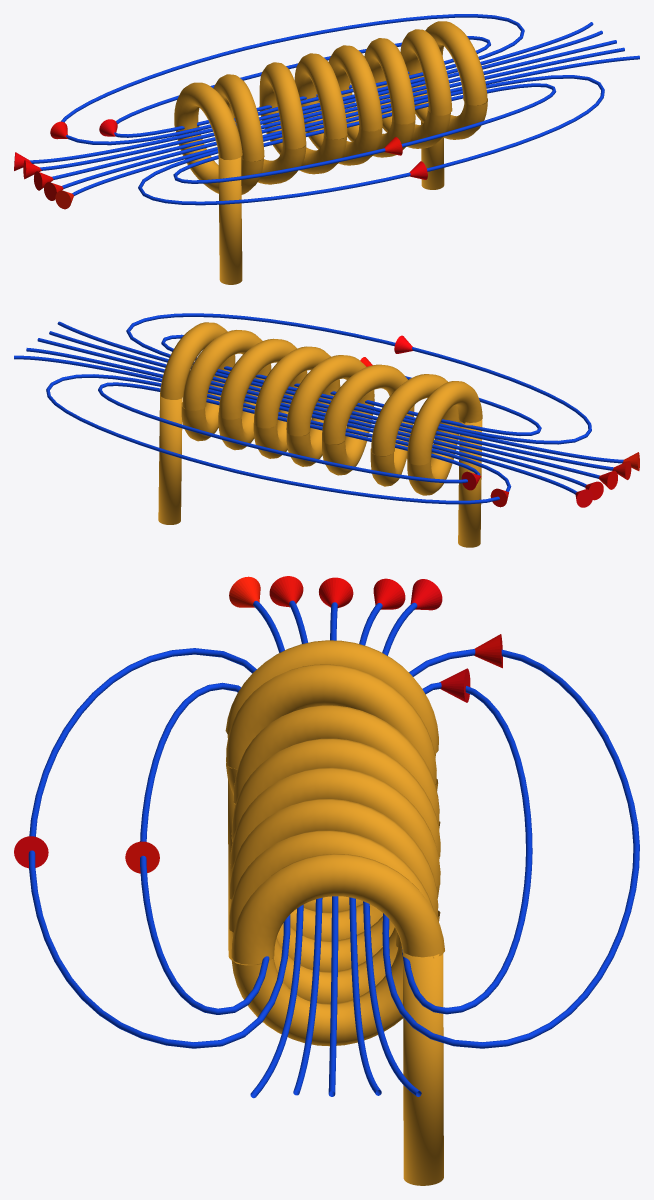
The model's file is electro_megnatic_field.glb.
3 renders of one model, top to bottom at view 1: azimuth 30°, elevation 25°; view 2: azimuth 150°, elevation 25°; view 3: azimuth 270°, elevation 25°, orthographic. The views are drawn at different scales.
Parts seen in each view (by area): view 1: BézierCircle.005, BézierCircle.001, Torus.014, Cylinder, Torus.008, Torus.012, Torus.006, BézierCircle.004, Torus.013, Torus.009, Torus.017, Torus.005 (+14 smaller); view 2: BézierCircle.001, BézierCircle.005, Torus.014, Cylinder.001, Torus.006, Torus.008, Torus.005, Torus.012, Torus.013, Torus.009, BézierCircle, Torus.017 (+14 smaller); view 3: Torus.017, Torus.005, Cylinder.001, Torus.013, Torus.006, Torus.009, Torus.016, Torus.008, BézierCircle.005, BézierCircle.001, Torus.014, Torus.012 (+10 smaller).
Boxes of the visible parts, left/top/right/bottom form: BézierCircle.005: left=138, top=75, right=604, bottom=205; BézierCircle.001: left=61, top=14, right=524, bottom=145; Torus.014: left=174, top=82, right=242, bottom=159; Cylinder: left=218, top=155, right=242, bottom=284; Torus.008: left=294, top=53, right=347, bottom=139; Torus.012: left=400, top=29, right=452, bottom=115; Torus.006: left=259, top=62, right=306, bottom=149; BézierCircle.004: left=173, top=83, right=556, bottom=183; Torus.013: left=328, top=45, right=382, bottom=131; Torus.009: left=364, top=38, right=415, bottom=124; Torus.017: left=425, top=21, right=487, bottom=105; Torus.005: left=213, top=74, right=264, bottom=161; BézierCircle.001: left=46, top=374, right=511, bottom=504; BézierCircle.005: left=126, top=313, right=591, bottom=444; Torus.014: left=407, top=381, right=482, bottom=465; Cylinder.001: left=158, top=393, right=182, bottom=524; Torus.006: left=322, top=364, right=414, bottom=444; Torus.008: left=286, top=355, right=374, bottom=436; Torus.005: left=371, top=374, right=459, bottom=455; Torus.012: left=183, top=330, right=271, bottom=410; Torus.013: left=254, top=346, right=340, bottom=428; Torus.009: left=219, top=338, right=307, bottom=419; BézierCircle: left=98, top=382, right=480, bottom=483; Torus.017: left=160, top=322, right=235, bottom=399; Torus.017: left=231, top=854, right=444, bottom=964; Torus.005: left=226, top=664, right=436, bottom=784; Cylinder.001: left=403, top=951, right=443, bottom=1185; Torus.013: left=230, top=767, right=440, bottom=886; Torus.006: left=233, top=705, right=439, bottom=825; Torus.009: left=229, top=799, right=438, bottom=917; Torus.016: left=231, top=948, right=403, bottom=1046; Torus.008: left=231, top=738, right=440, bottom=856; BézierCircle.005: left=28, top=648, right=290, bottom=1048; BézierCircle.001: left=382, top=649, right=639, bottom=1048; Torus.014: left=225, top=640, right=438, bottom=754; Torus.012: left=229, top=830, right=433, bottom=949.
Bounding box in the file's own units: 14.52 × 4.26 × 7.6.
